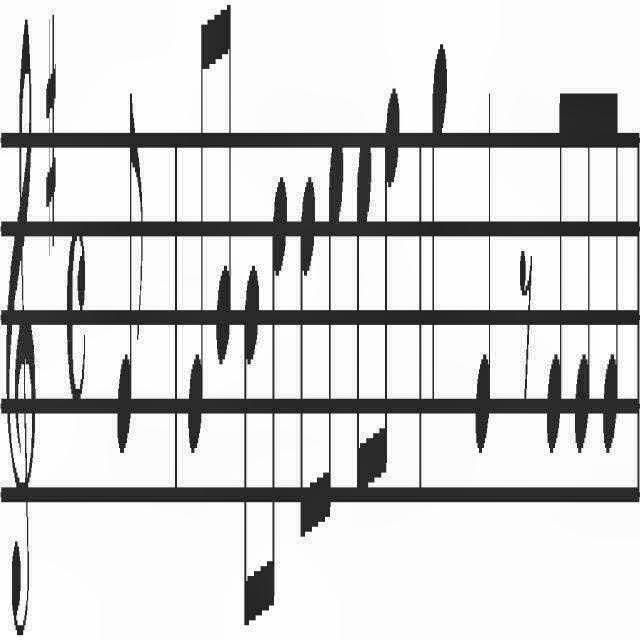Bass-clef: (1, 5, 44, 640)
Diez: (39, 0, 61, 272)
Eighth-note: (181, 0, 211, 488), (116, 69, 148, 488), (263, 170, 289, 640), (321, 105, 347, 551), (292, 152, 318, 594), (598, 57, 624, 495), (378, 62, 402, 500), (570, 78, 596, 472), (545, 74, 569, 478), (211, 0, 233, 388), (239, 256, 261, 640), (353, 101, 373, 518)
Eighth-rest: (515, 195, 533, 449)
Quarter-note: (466, 27, 496, 525), (425, 1, 451, 500)
